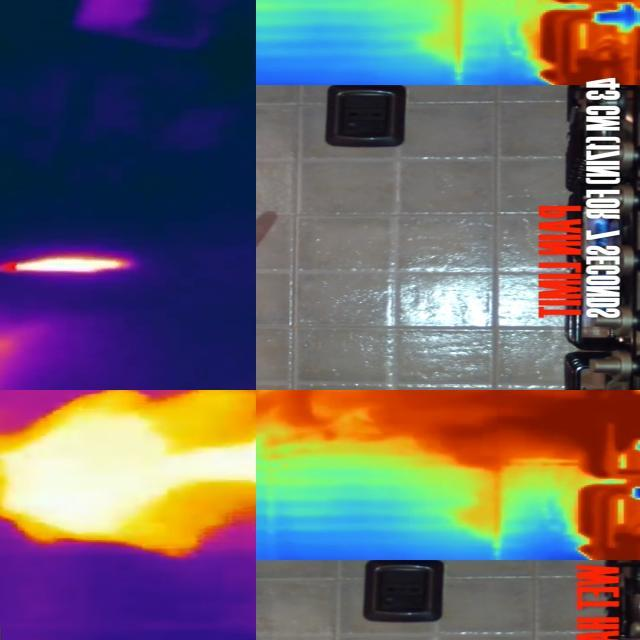fire: (1, 429, 257, 543), (433, 391, 640, 467), (1, 252, 134, 278)
